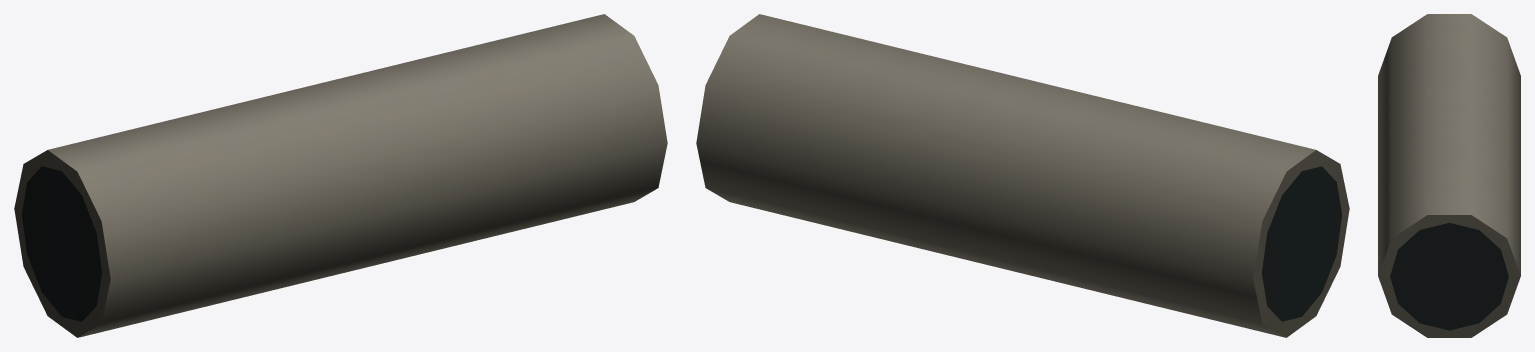
Rendered from Pipe_1E.fbx.
3 views of the same model, side by side, from view 1: azimuth 30°, elevation 25°; view 2: azimuth 150°, elevation 25°; view 3: azimuth 270°, elevation 25° (orthographic). The views are drawn at different scales.
Visible parts, largest first — view 1: Pipe_1E; view 2: Pipe_1E; view 3: Pipe_1E.
Part boxes in pixels (<box>): Pipe_1E: <box>14,14,667,337</box>; Pipe_1E: <box>696,14,1349,337</box>; Pipe_1E: <box>1378,14,1520,337</box>.
Size of the model in its own units: 4.01 by 1.14 by 1.2.
